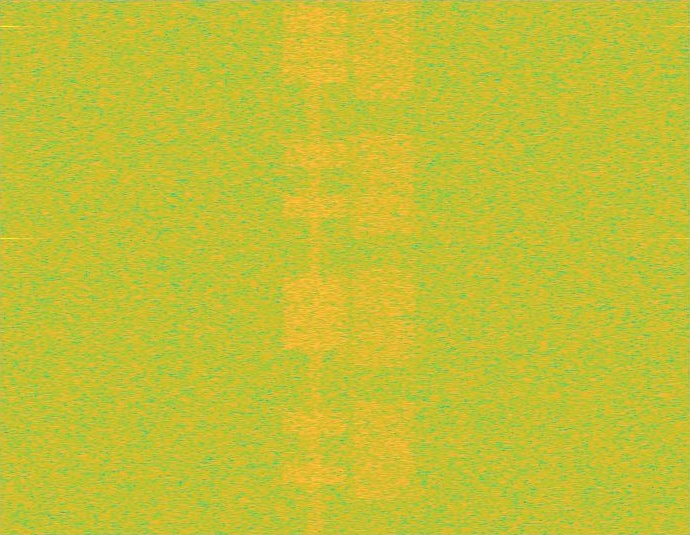5G: (350, 0, 419, 534)
DSSS: (307, 0, 323, 534)
LTE: (281, 0, 350, 534)
Radar: (1, 0, 15, 534)
